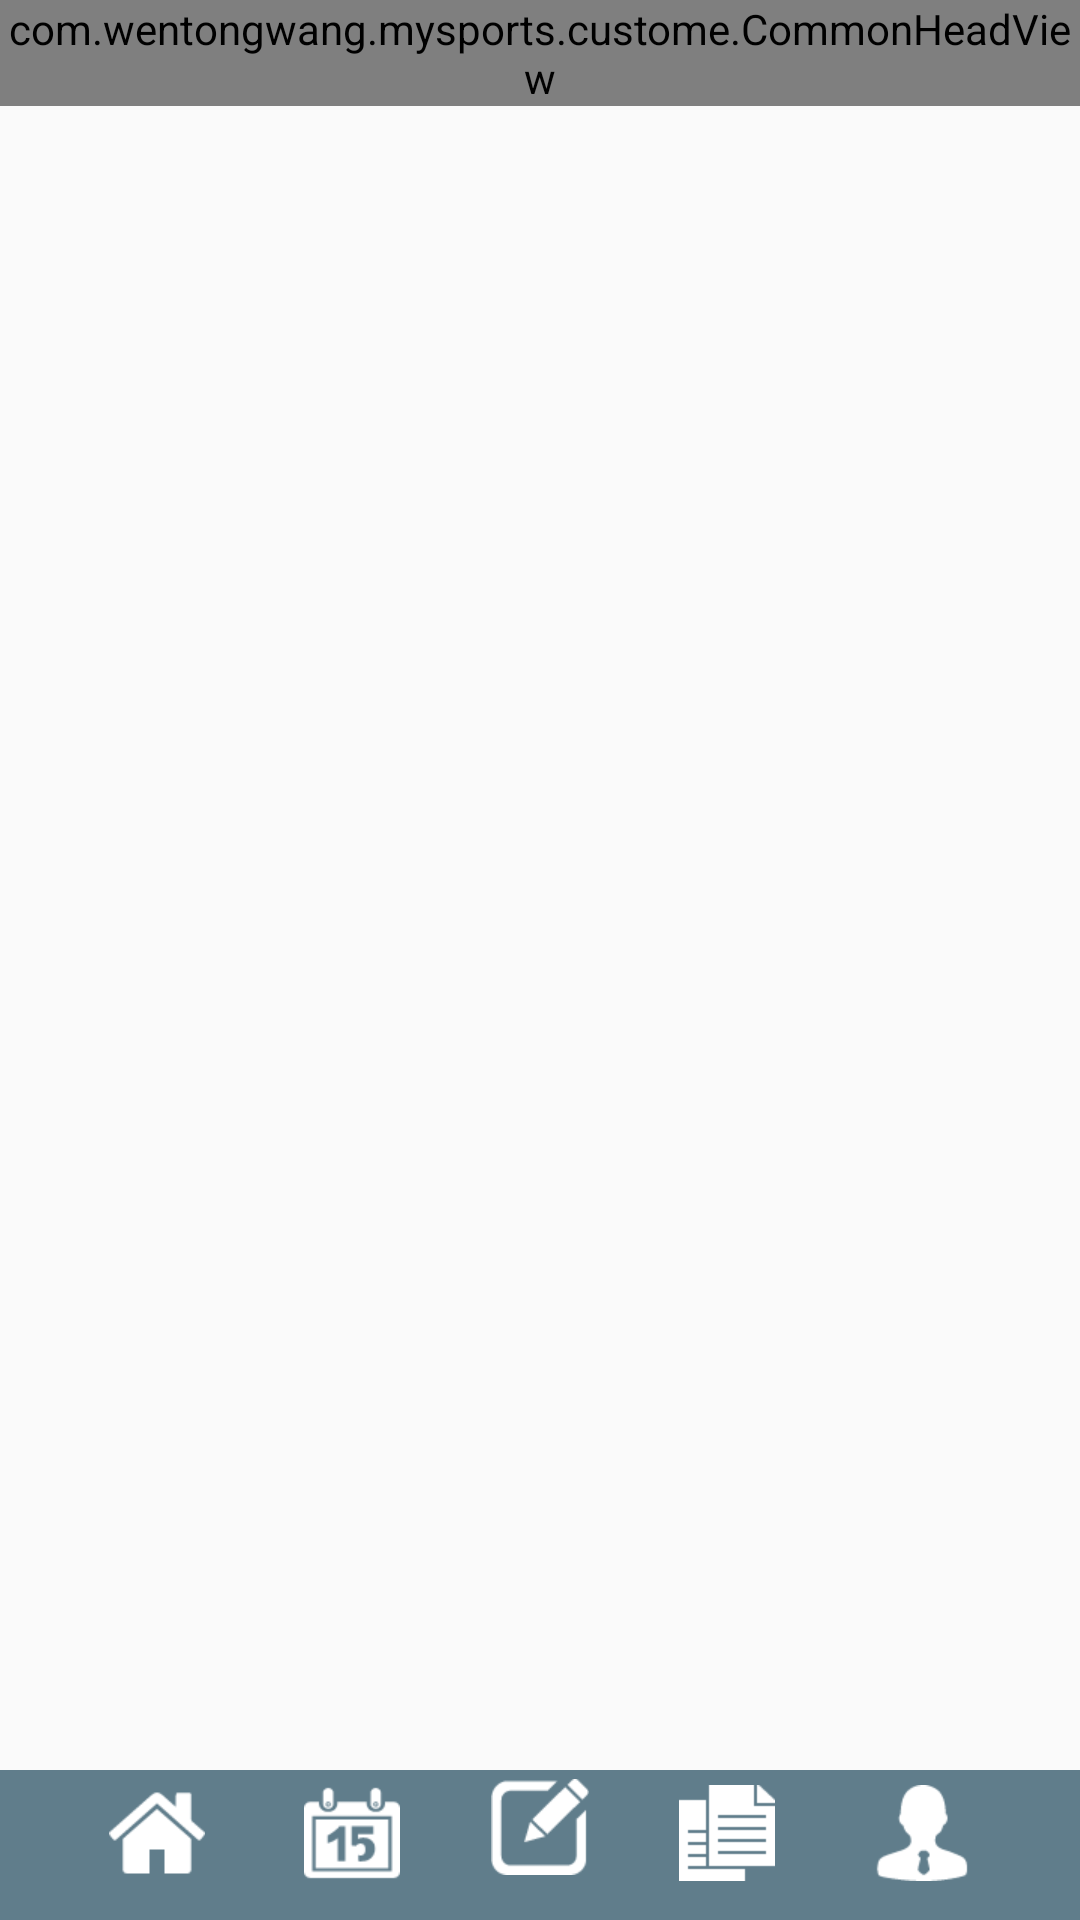

Icons on this 1080px×1920px Android screen, each with the point to tap as [x,y]:
bottom tag creat event: [540,1809]
